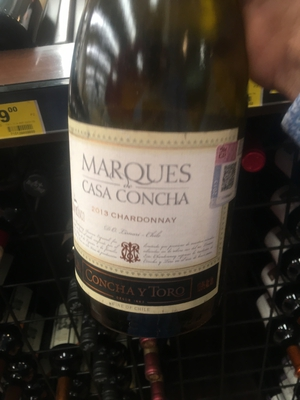marques de casa concha chardonnay: (59, 10, 250, 349)
